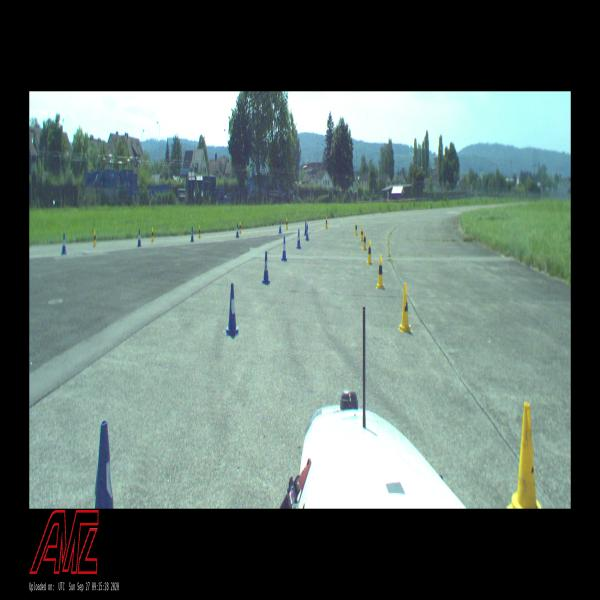blue_cone: (93, 419, 114, 508), (225, 283, 240, 335), (262, 251, 270, 284), (281, 236, 287, 261), (61, 232, 67, 255), (296, 230, 301, 248), (137, 231, 141, 246), (278, 221, 282, 234), (190, 228, 194, 241), (306, 225, 309, 240), (304, 221, 307, 236), (236, 223, 239, 238)
yellow_cone: (508, 402, 547, 508), (398, 283, 412, 335), (376, 255, 385, 288), (366, 239, 373, 264), (363, 231, 367, 250), (354, 221, 358, 234), (93, 230, 96, 247), (151, 227, 154, 242), (360, 226, 363, 241), (325, 216, 328, 229), (198, 226, 201, 238), (285, 218, 288, 229), (240, 222, 241, 233)
